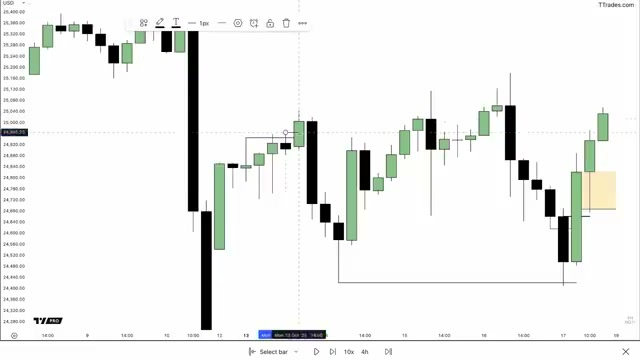bearish_reaction_zone: (581, 171, 616, 210)
